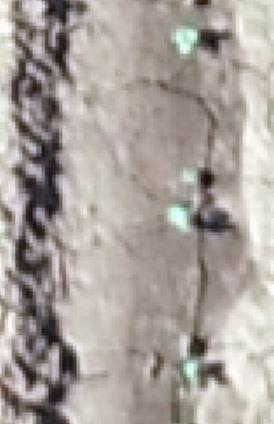cotton: (174, 28, 198, 54), (171, 208, 188, 229), (184, 167, 199, 182), (184, 362, 198, 378)
